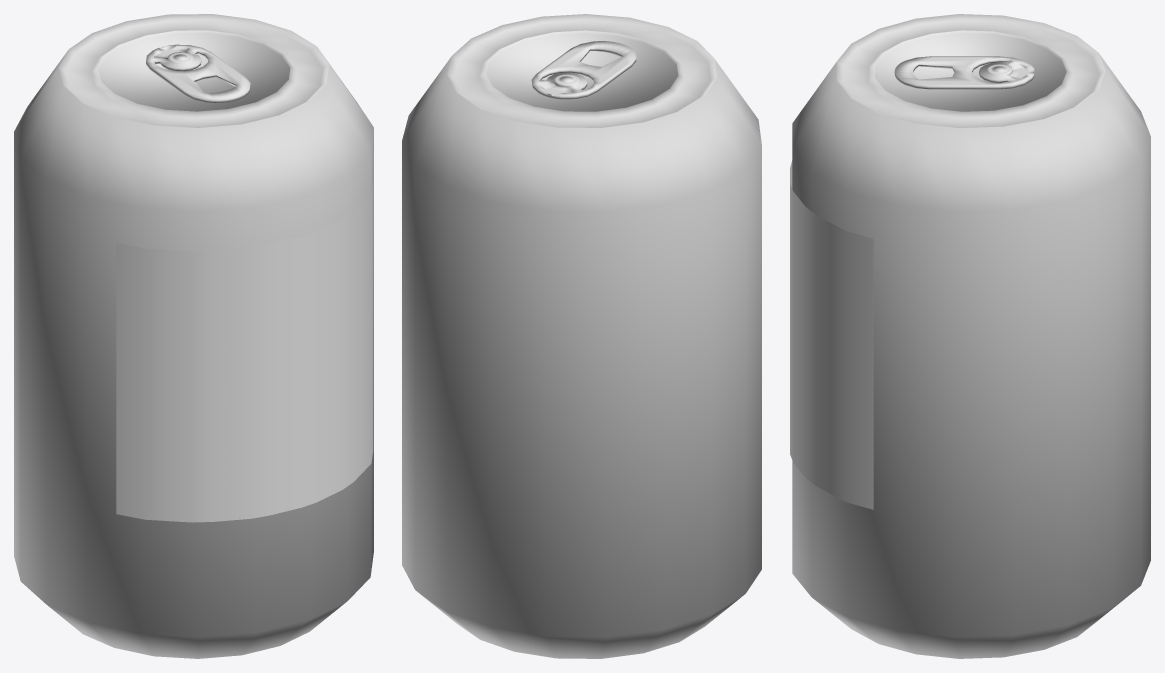
Rendered from Lata de refresco 2 - Copy.fbx.
3 renders of one model, left to right at view 1: azimuth 30°, elevation 25°; view 2: azimuth 150°, elevation 25°; view 3: azimuth 270°, elevation 25°, orthographic.
Parts seen in each view (by area): view 1: Cylinder, Marcas Piratas-08, Circle; view 2: Cylinder, Circle; view 3: Cylinder, Marcas Piratas-08, Circle.
Boxes of the visible parts, box(x1,y1,x2,y2) form: Cylinder: box(14, 14, 373, 658); Marcas Piratas-08: box(116, 180, 373, 522); Circle: box(146, 44, 250, 102); Cylinder: box(402, 14, 761, 658); Circle: box(531, 41, 636, 99); Cylinder: box(792, 14, 1150, 658); Marcas Piratas-08: box(790, 160, 873, 509); Circle: box(894, 56, 1034, 89).
Size of the model in its own units: 199 by 326 by 200.
